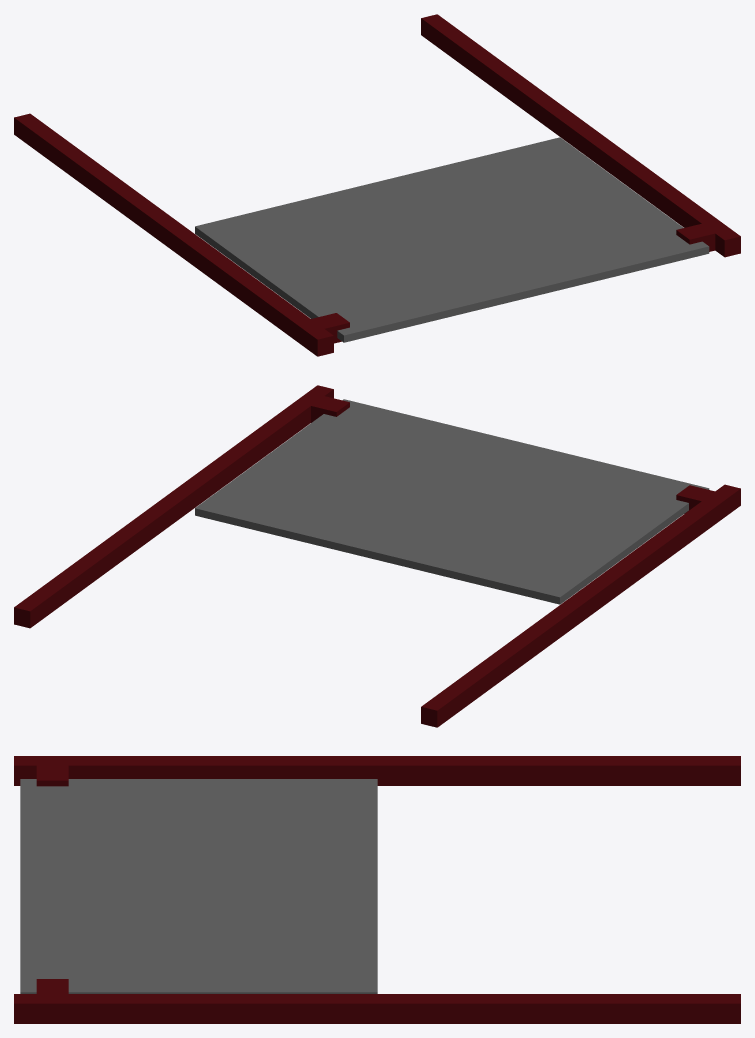
The model's file is barrier_1.dae.
3 views of the same model, one above another, from view 1: azimuth 30°, elevation 25°; view 2: azimuth 150°, elevation 25°; view 3: azimuth 270°, elevation 25° (orthographic). The views are drawn at different scales.
Parts seen in each view (by area): view 1: coords_ME_ID17_MA_material_5, coords_ME_ID3_MA_material_28, coords_ME_ID11_MA_material_28; view 2: coords_ME_ID17_MA_material_5, coords_ME_ID3_MA_material_28, coords_ME_ID11_MA_material_28; view 3: coords_ME_ID17_MA_material_5, coords_ME_ID11_MA_material_28, coords_ME_ID3_MA_material_28.
Boxes of the visible parts, x1,y1,x2,y2 form: coords_ME_ID17_MA_material_5: (195,137,709,342); coords_ME_ID3_MA_material_28: (14,113,349,356); coords_ME_ID11_MA_material_28: (421,14,740,257); coords_ME_ID17_MA_material_5: (195,399,709,604); coords_ME_ID3_MA_material_28: (421,484,740,727); coords_ME_ID11_MA_material_28: (14,385,349,628); coords_ME_ID17_MA_material_5: (20,779,377,993); coords_ME_ID11_MA_material_28: (14,979,740,1023); coords_ME_ID3_MA_material_28: (14,756,740,786).
Size of the model in its own units: 14.33 by 0.5512 by 17.8.
